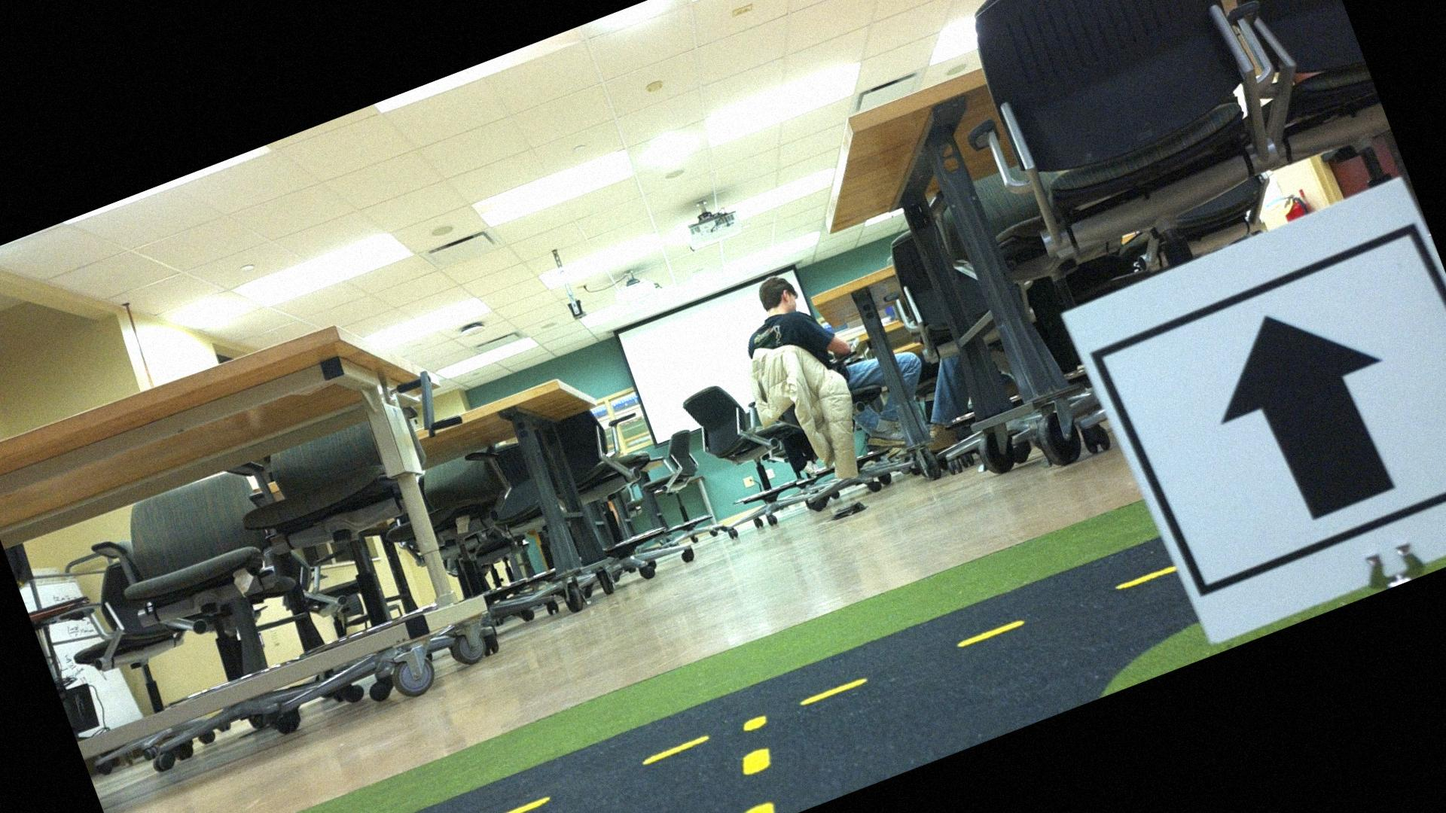gostraight: (1084, 186, 1445, 635)
yellowline: (152, 555, 1178, 812), (703, 708, 798, 812)
